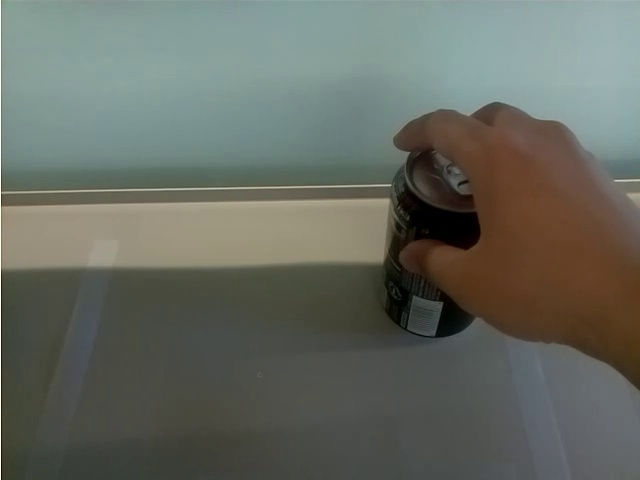cocacola-zero: (388, 142, 491, 340)
hand: (395, 104, 640, 345)
